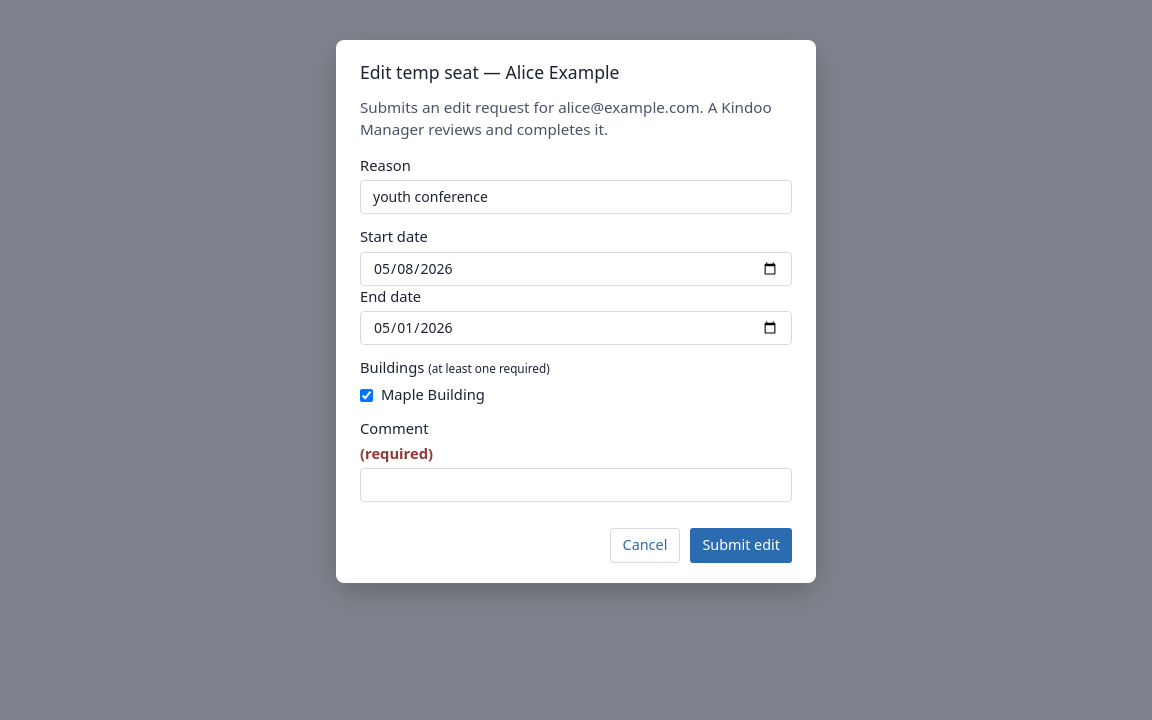
Test case: <EditSeatDialog /> — edit_temp sub-type › blocks submission when end_date precedes start_date
In the field with test id "edit-seat-comment": (576, 485) [360,468,792,502], type "note"
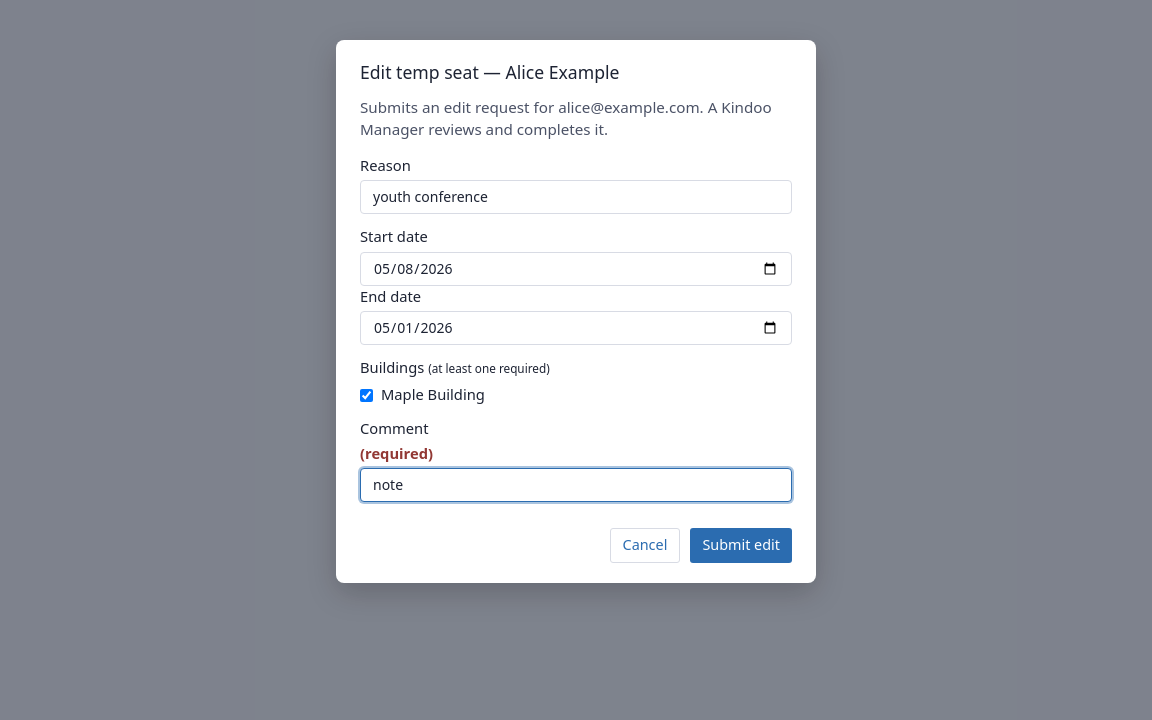
Click the button with test id "edit-seat-confirm": (741, 546) [690,528,792,563]
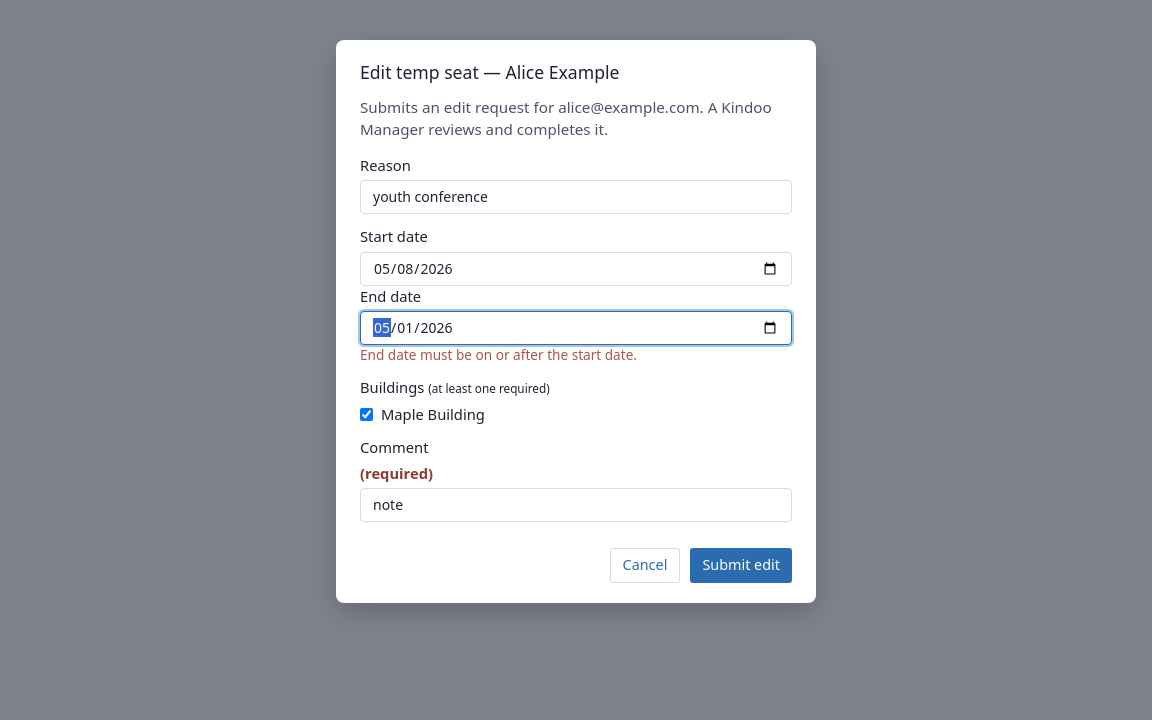
Expected: the text "End date must be on or after the start date." is shown, [360,345,637,364]
